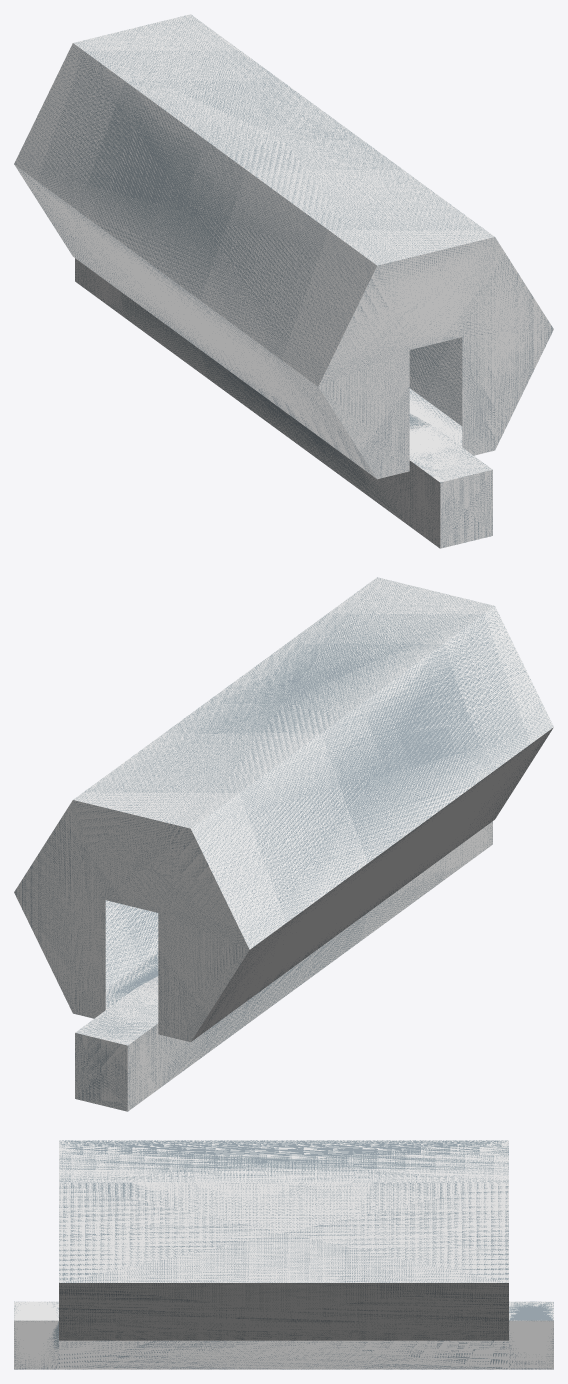
The picture shows the model from 3 angles, top to bottom: view 1: azimuth 30°, elevation 25°; view 2: azimuth 150°, elevation 25°; view 3: azimuth 270°, elevation 25°; orthographic projection. The views are drawn at different scales.
Parts seen in each view (by area): view 1: Model; view 2: Model; view 3: Model.
Boxes of the visible parts, x1=… form: Model: x1=14, y1=14, x2=553, y2=548; Model: x1=14, y1=577, x2=553, y2=1111; Model: x1=14, y1=1140, x2=553, y2=1369.
Size of the model in its own units: 447 by 487 by 1200.
